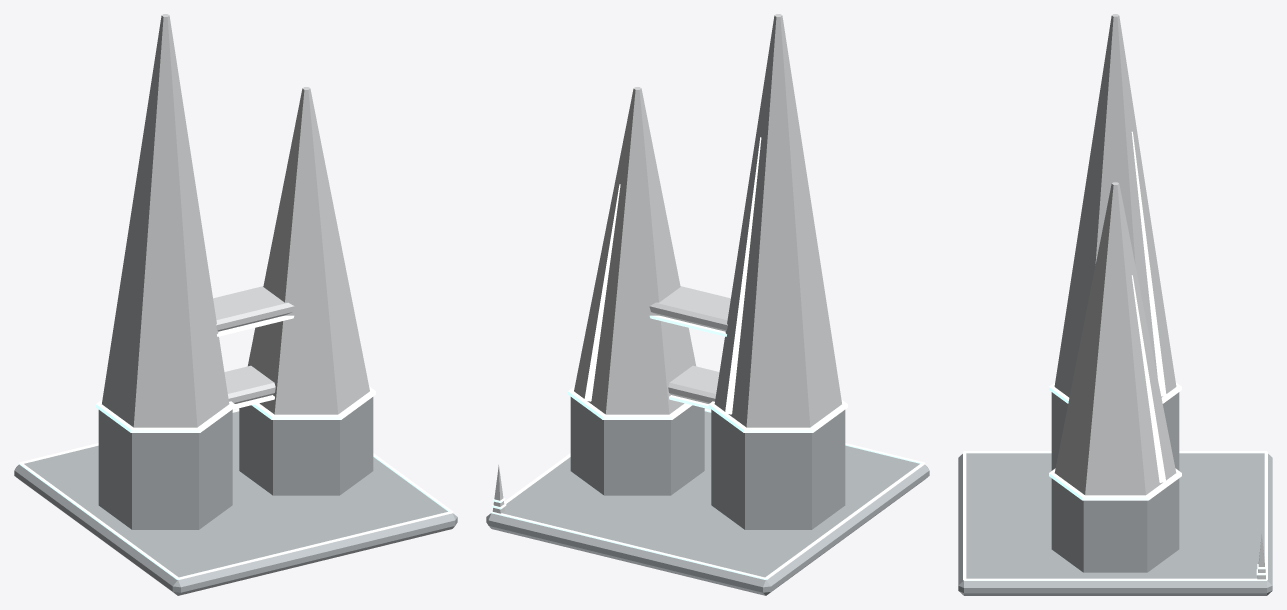
Rendered from zone_high_3_t2.glb.
The picture shows the model from 3 angles, left to right: view 1: azimuth 30°, elevation 25°; view 2: azimuth 150°, elevation 25°; view 3: azimuth 270°, elevation 25°; orthographic projection. The views are drawn at different scales.
Parts seen in each view (by area): view 1: zone_high_3_t2, detail; view 2: zone_high_3_t2, detail; view 3: zone_high_3_t2, detail.
Boxes of the visible parts, x1,y1,x2,y2 form: zone_high_3_t2: [14, 14, 457, 595]; detail: [18, 409, 453, 579]; zone_high_3_t2: [486, 14, 929, 595]; detail: [490, 409, 925, 579]; zone_high_3_t2: [958, 14, 1272, 595]; detail: [963, 451, 1267, 580].
Bounding box in the file's own units: 27.5 × 46.71 × 27.5.
